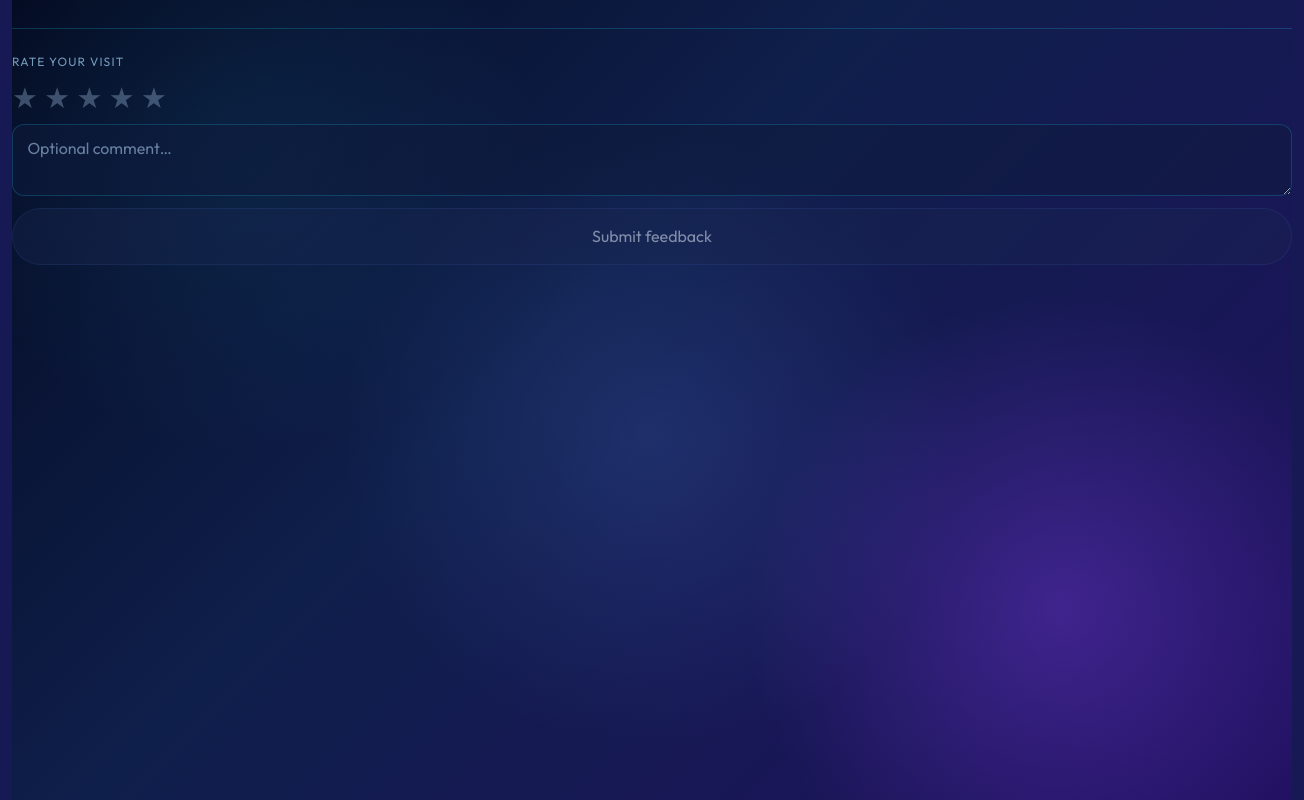
it: FeedbackForm › shows an error message when submitFeedbackImpl throws
The width and height of the screenshot is (1304, 800).
Click the button named "2 stars" at (57,97), box [44,83,70,112]
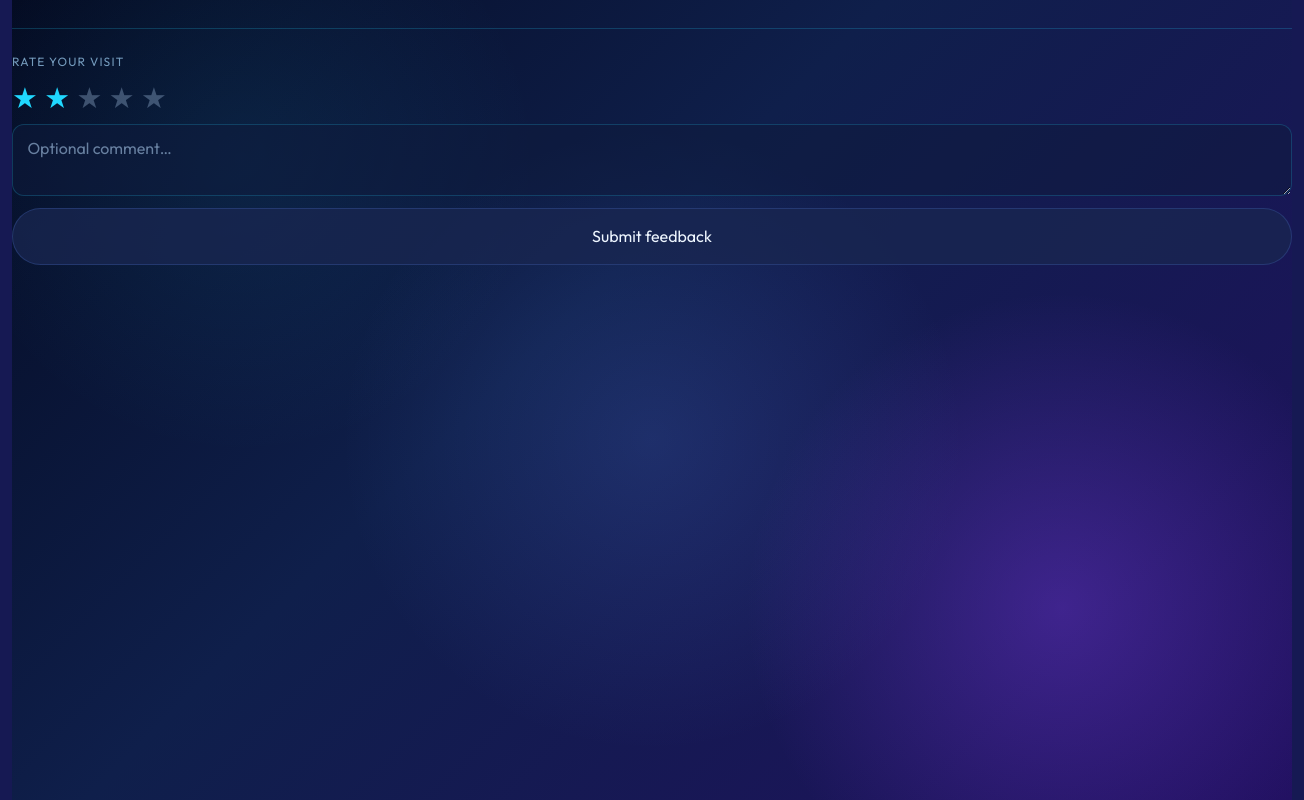
Submit the form "Submit feedback", box [12,83,1292,264]
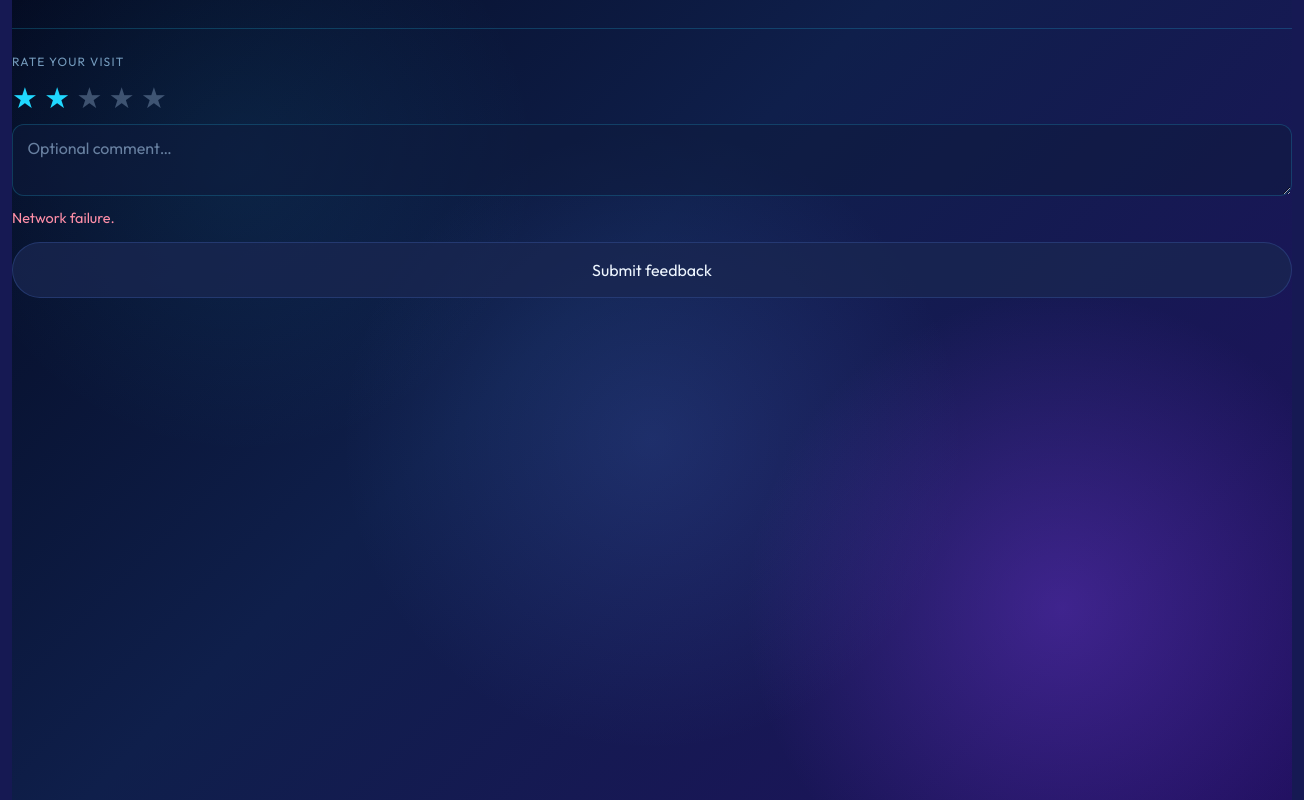
Expected: the text "Network failure." is shown, [12,209,115,227]
